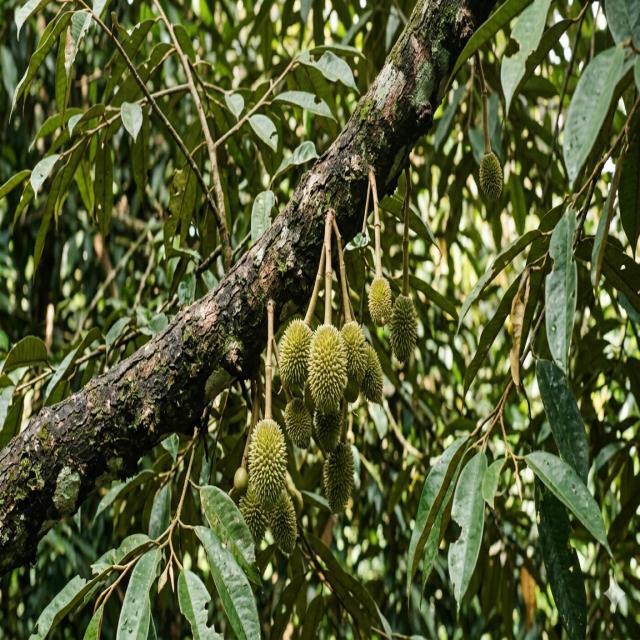immature: (306, 322, 348, 411), (247, 416, 289, 504), (279, 316, 314, 390), (323, 442, 356, 514), (388, 293, 419, 361), (339, 319, 370, 386), (239, 484, 269, 548), (270, 492, 298, 554), (283, 395, 312, 449), (478, 149, 504, 202), (361, 350, 385, 406), (314, 405, 343, 451), (367, 274, 393, 324), (233, 465, 249, 493)
